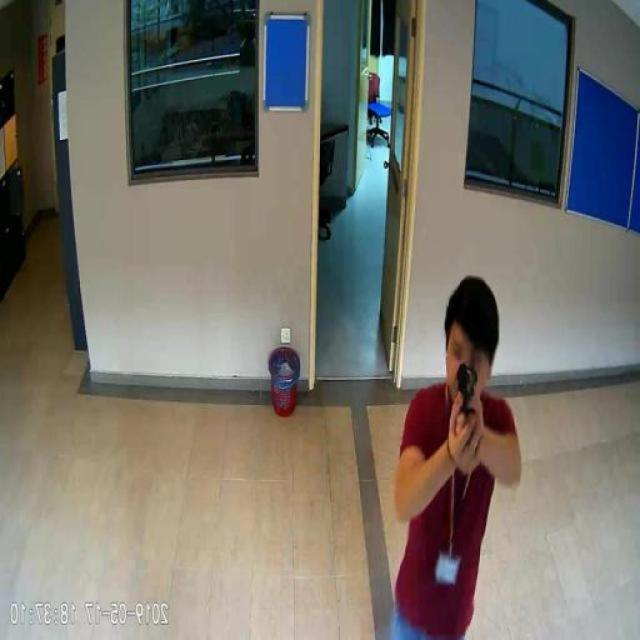pistol: (458, 360, 482, 441)
